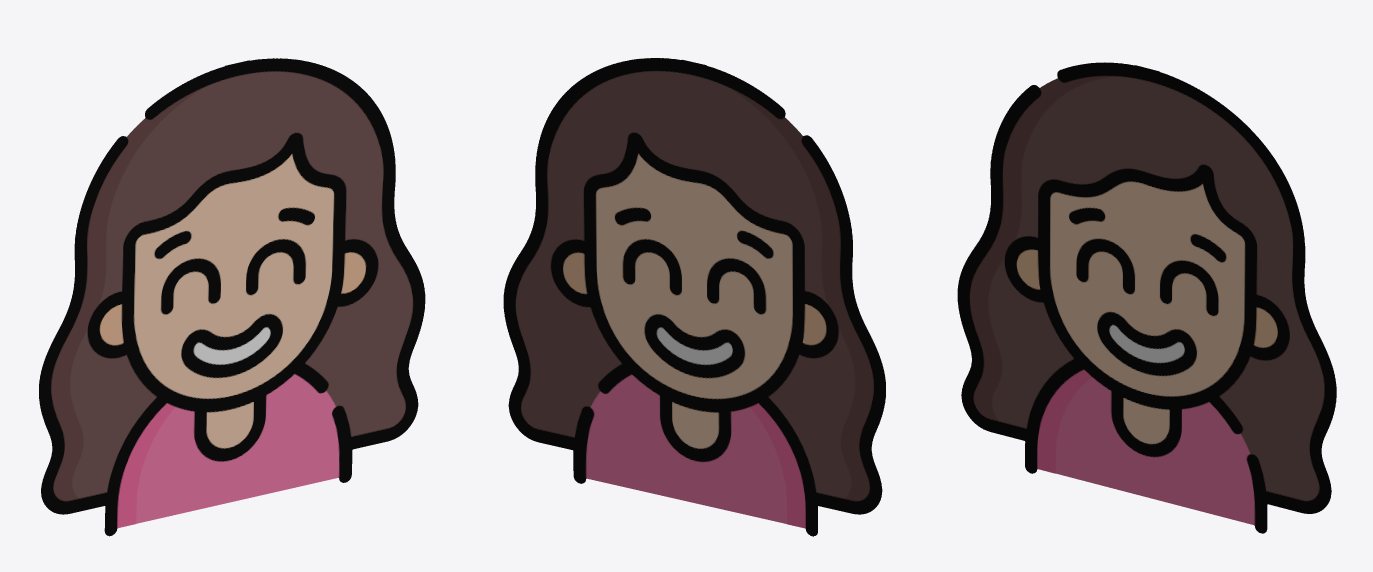
File: smile.fbx
3 views of the same model, side by side, from view 1: azimuth 30°, elevation 25°; view 2: azimuth 150°, elevation 25°; view 3: azimuth 330°, elevation 25° (orthographic).
Visible parts, largest first — view 1: smile; view 2: smile; view 3: smile.
Part boxes in pixels (x1=…): smile: x1=39, y1=58, x2=425, y2=536; smile: x1=503, y1=58, x2=885, y2=536; smile: x1=957, y1=62, x2=1336, y2=533.
Bounding box in the file's own units: 1382 × 1382 × 21.94.
Materials: 1 (1 with a texture image).
